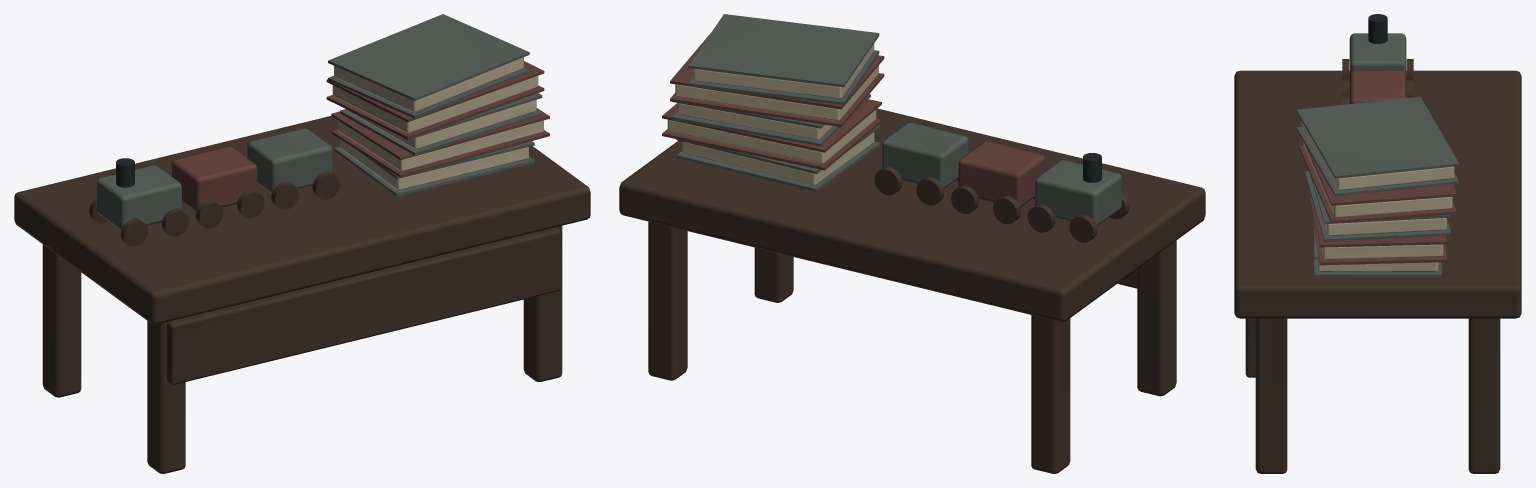
Rendered from prop-toy-bench-v01.glb.
3 views of the same model, side by side, from view 1: azimuth 30°, elevation 25°; view 2: azimuth 150°, elevation 25°; view 3: azimuth 270°, elevation 25° (orthographic).
Visible parts, largest first — view 1: toy-bench; view 2: toy-bench; view 3: toy-bench.
Part boxes in pixels (x1,y1,x2,y2): toy-bench: [14, 14, 590, 473]; toy-bench: [619, 14, 1205, 473]; toy-bench: [1234, 14, 1521, 473].
Bounding box in the file's own units: 0.9 × 0.5795 × 0.5.
